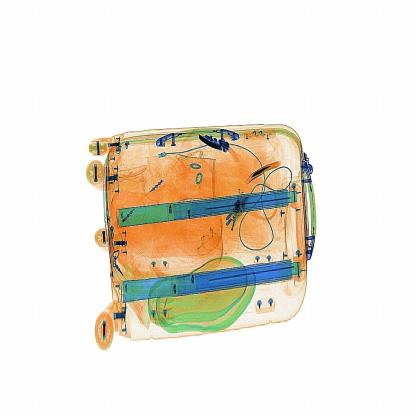wrench: (240, 149, 288, 191)
